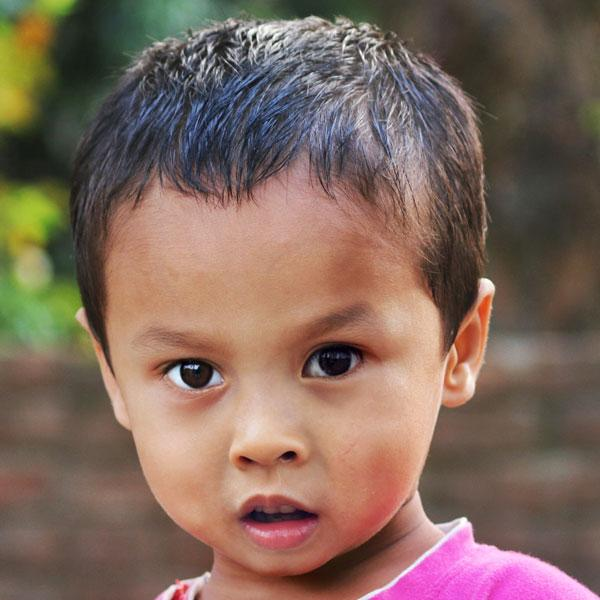Eyes: (292, 330, 372, 394), (148, 346, 231, 402)
